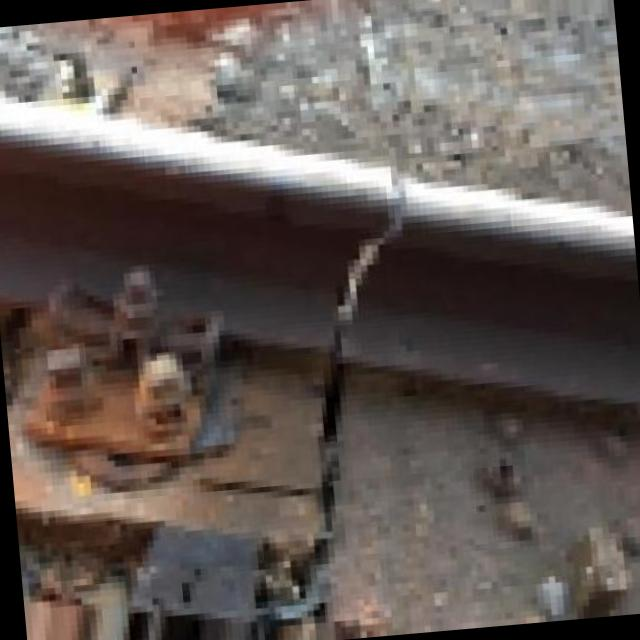defective: (250, 107, 526, 414)
